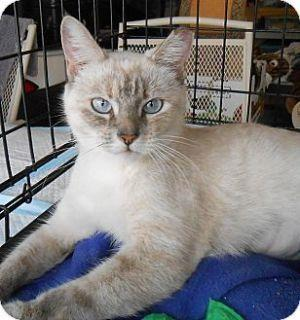siamese: (49, 6, 205, 174)
